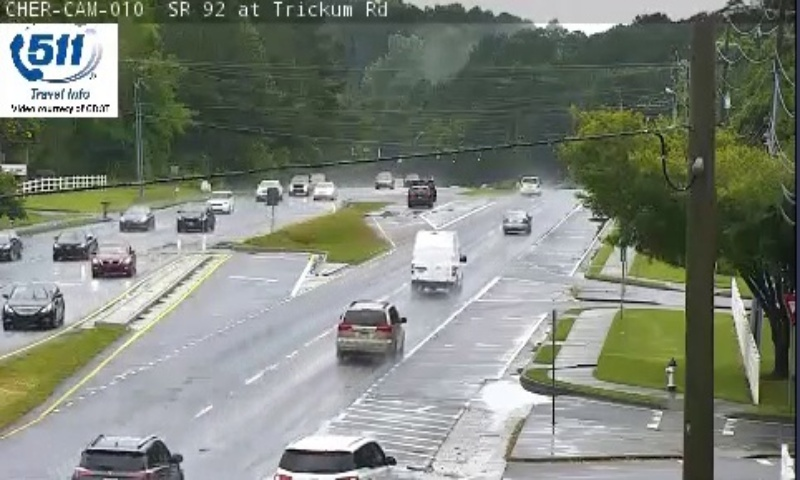car: (73, 438, 179, 480), (336, 301, 403, 351), (504, 211, 531, 232)
van: (409, 229, 459, 288)
